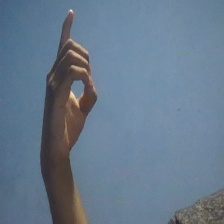D: (35, 6, 101, 175)
